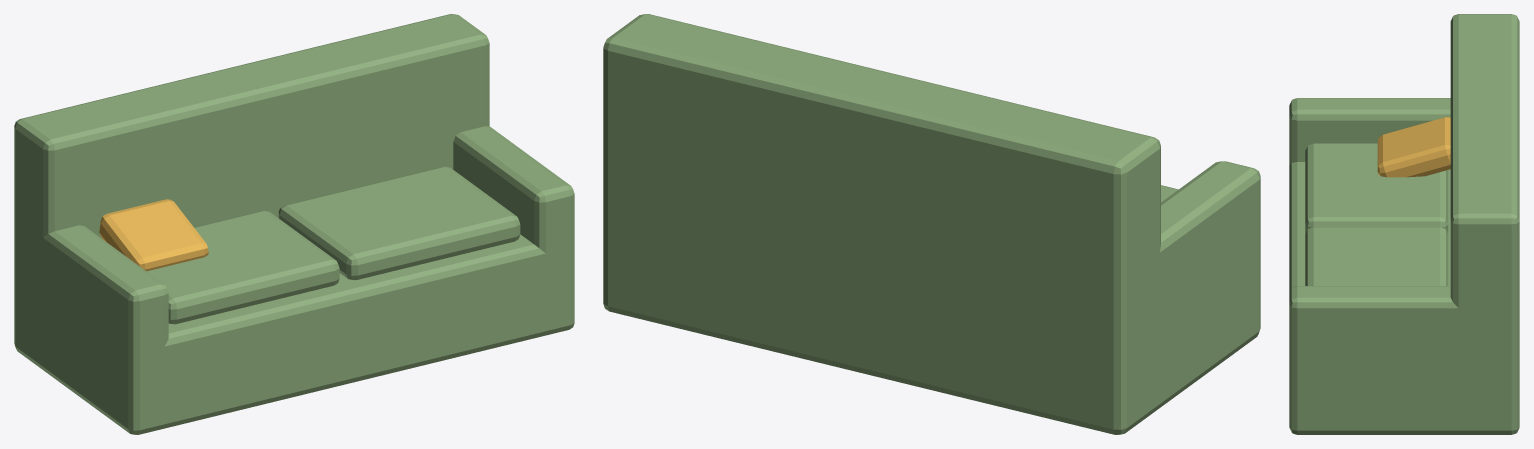
The model's file is hh_sofa.glb.
3 views of the same model, side by side, from view 1: azimuth 30°, elevation 25°; view 2: azimuth 150°, elevation 25°; view 3: azimuth 270°, elevation 25° (orthographic). The views are drawn at different scales.
Visible parts, largest first — view 1: back, base, arm, cushion.001, cushion, arm.001, throw_cushion; view 2: back, base, arm, arm.001; view 3: arm.001, back, base, cushion, cushion.001, arm, throw_cushion.
Boxes of the visible parts, x1,y1,x2,y2 form: back: [14, 14, 489, 371]; base: [14, 234, 574, 433]; arm: [14, 215, 168, 434]; cushion.001: [278, 166, 520, 280]; cushion: [147, 211, 339, 324]; arm.001: [453, 126, 574, 335]; throw_cushion: [99, 199, 208, 271]; back: [603, 14, 1160, 433]; base: [603, 216, 1260, 428]; arm: [1084, 161, 1260, 434]; arm.001: [603, 153, 637, 318]; arm.001: [1289, 286, 1519, 434]; back: [1450, 14, 1519, 434]; base: [1289, 162, 1519, 430]; cushion: [1305, 143, 1448, 233]; cushion.001: [1305, 227, 1448, 285]; arm: [1289, 98, 1450, 165]; throw_cushion: [1377, 117, 1450, 177].
Bounding box in the file's own units: 1.8 × 0.9 × 0.85.
